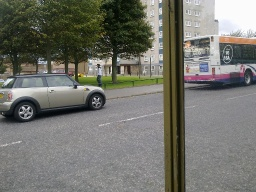bus: (176, 33, 256, 87)
car: (1, 71, 108, 120)
